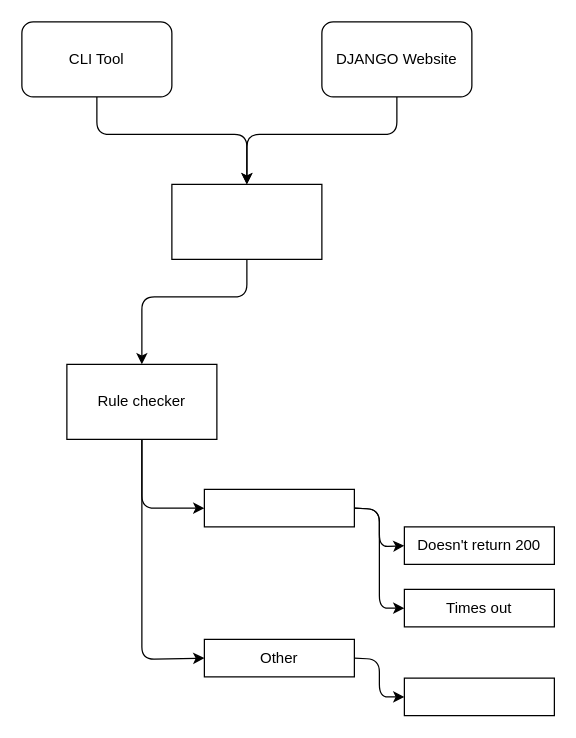
This 576x738 diagram has some shape labels left out. The shapes that lost their labels are listed below. From the top down, each one's box as (x1, y1, x2, y2) in pixels, then its label:
(171, 183, 322, 259): API Search
(203, 488, 354, 527): URL
(403, 677, 554, 716): Important data is not null
